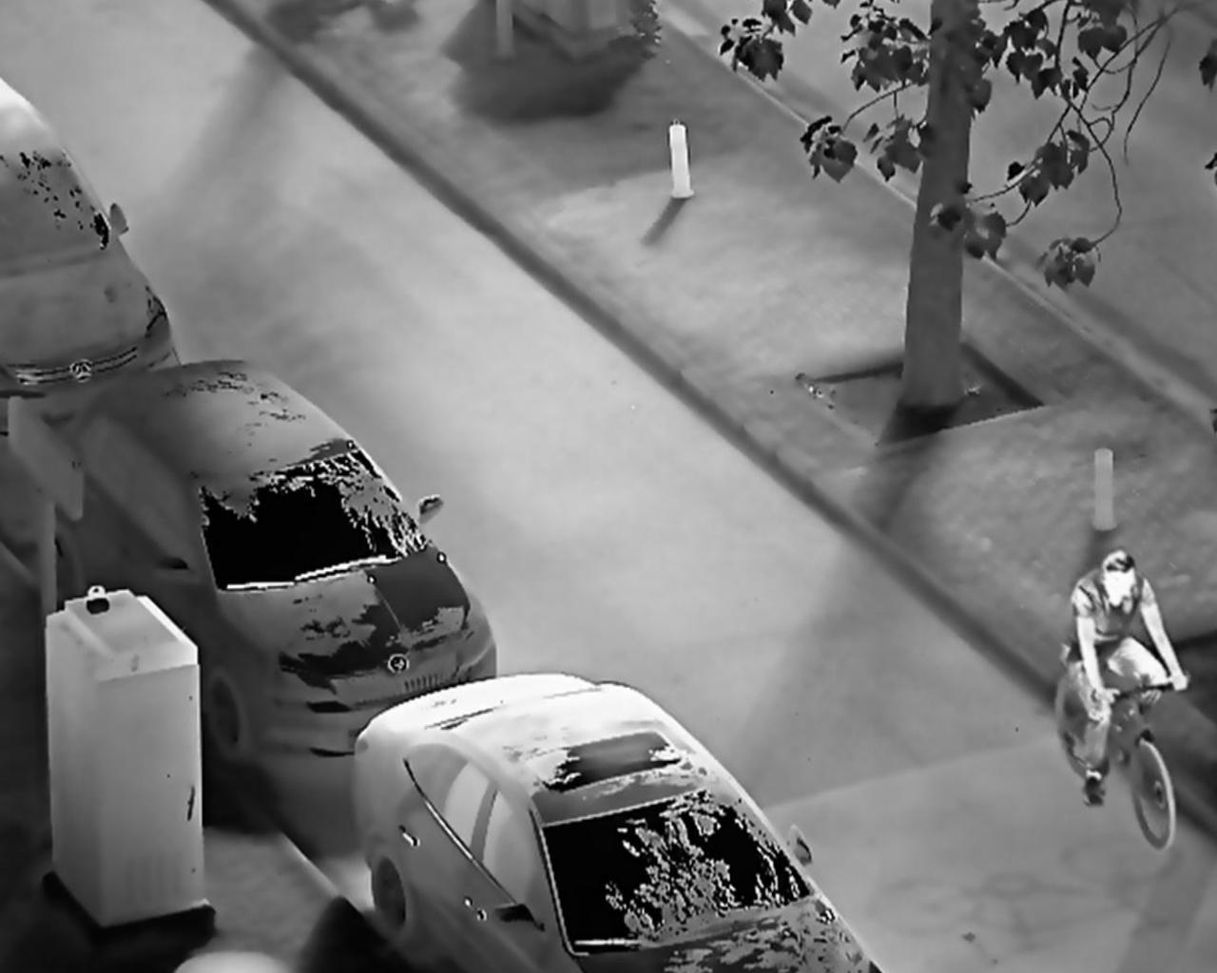person: (1065, 545, 1189, 811)
